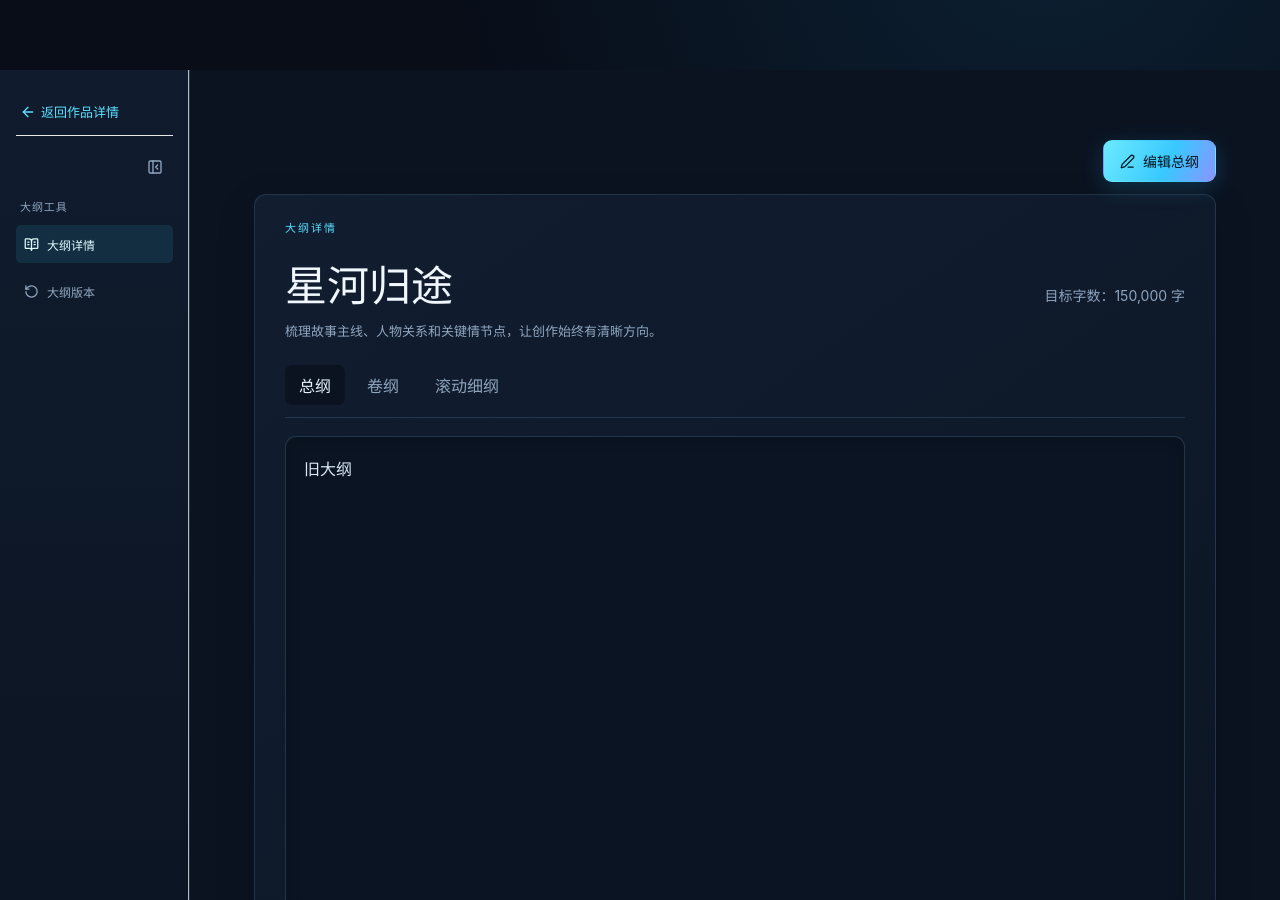
it: 大纲详情页 › 编辑目标字数，智能生成使用该字数并将流式结果写入大纲编辑框
Expected: the button "智能生成" is not shown
Click the button "编辑总纲" at (1160, 161), box top-left (1103, 140), bottom-right (1216, 182)
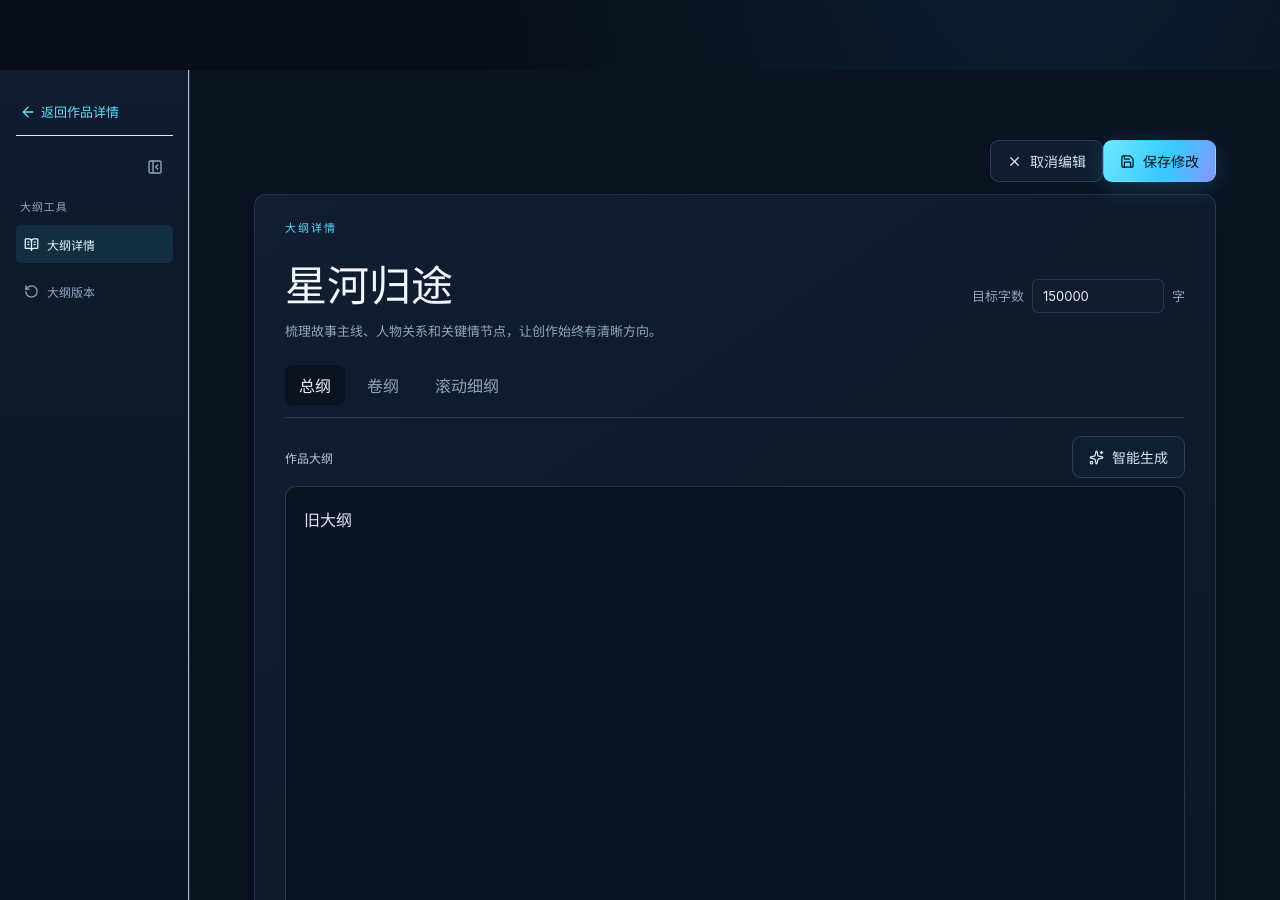
Result: the number field named "作品目标字数" holds "150000" at top-left (1032, 278), bottom-right (1164, 312)
Click the button "智能生成" at (1128, 457), box top-left (1072, 436), bottom-right (1185, 478)
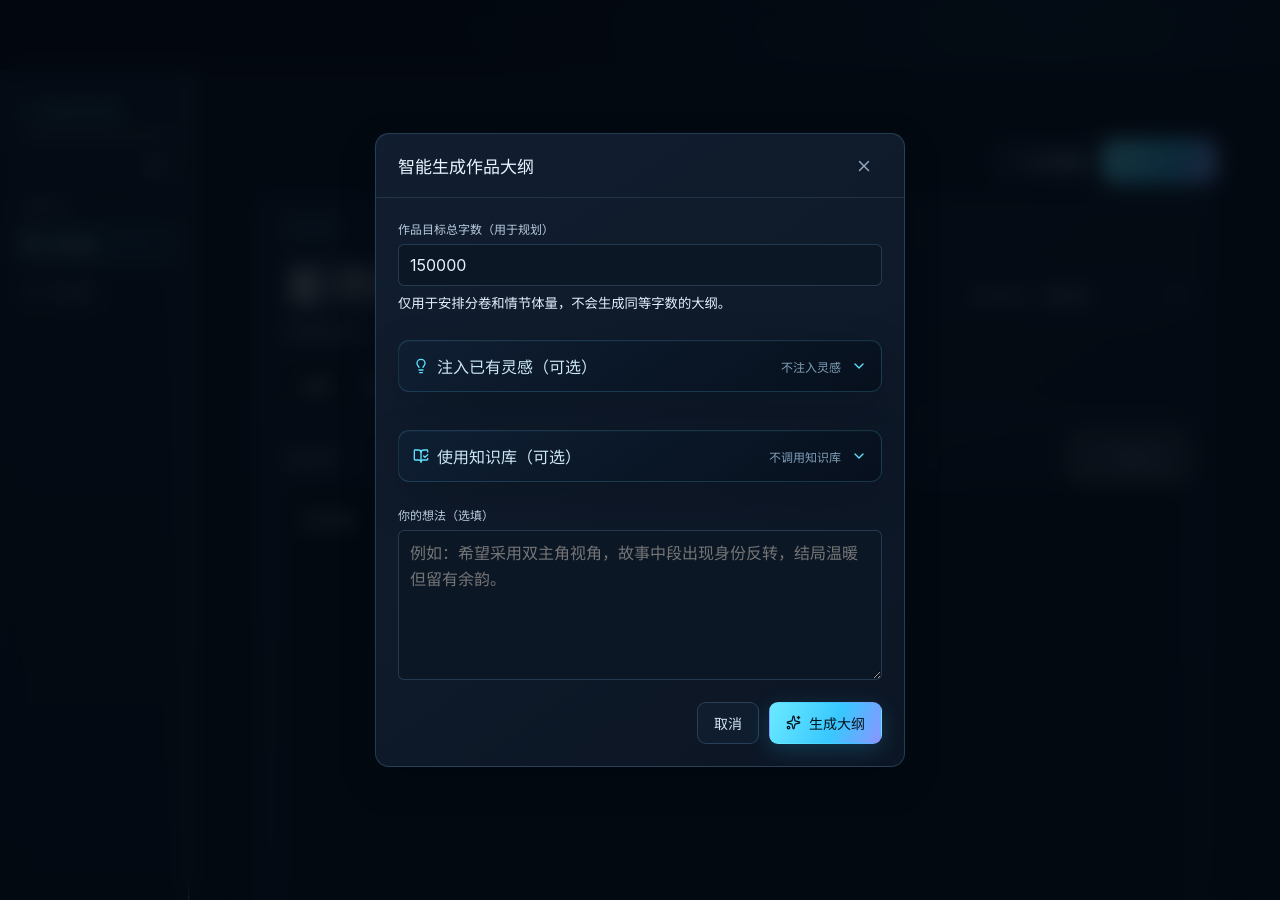
Result: the number field named "大纲生成期望字数" holds "150000" at top-left (398, 244), bottom-right (882, 286)
Type "双主角，温暖结局" into the text box named "大纲生成想法" at (640, 605), box top-left (398, 530), bottom-right (882, 680)
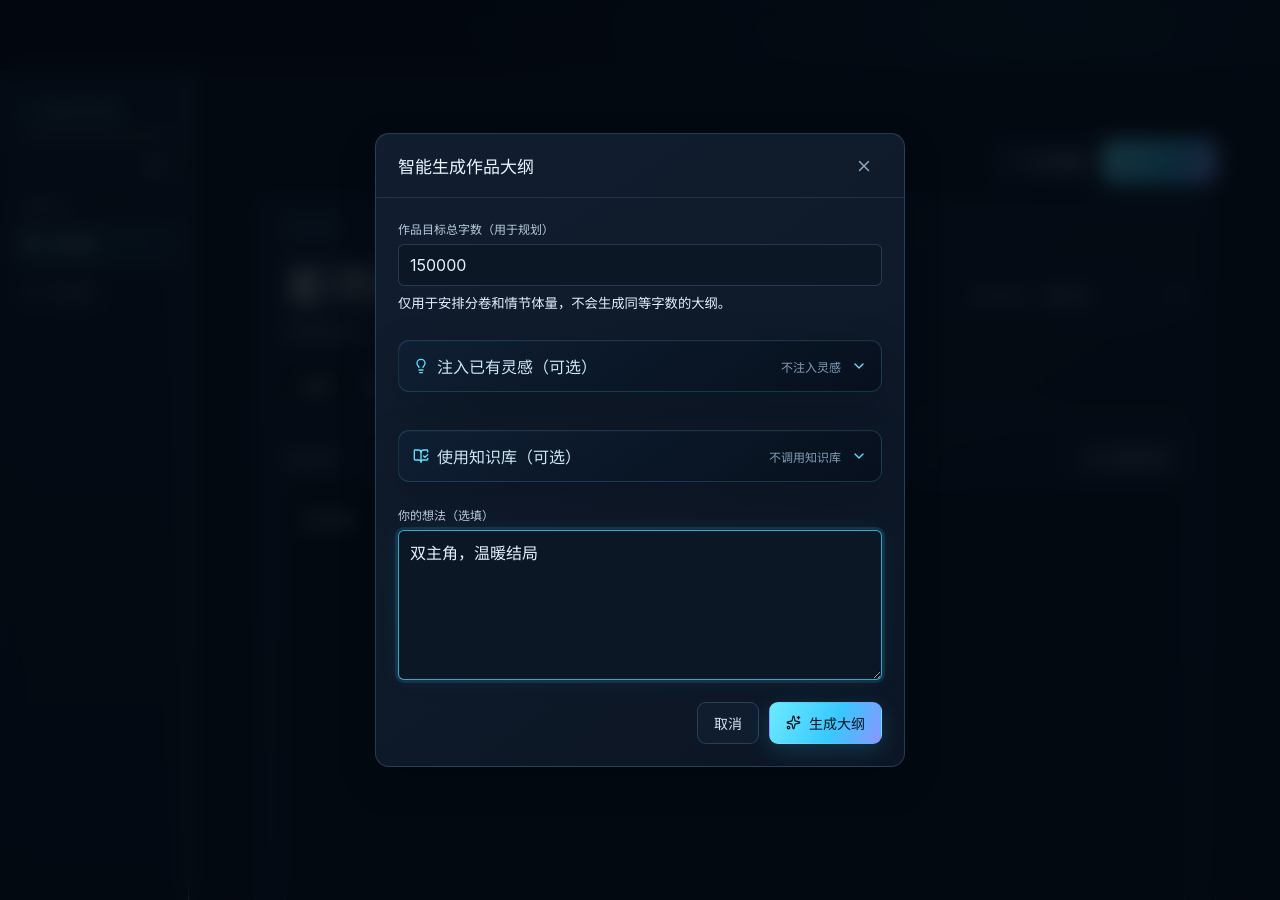
Click the button "生成大纲" at (826, 723), box top-left (769, 702), bottom-right (882, 744)
(page scrolled)
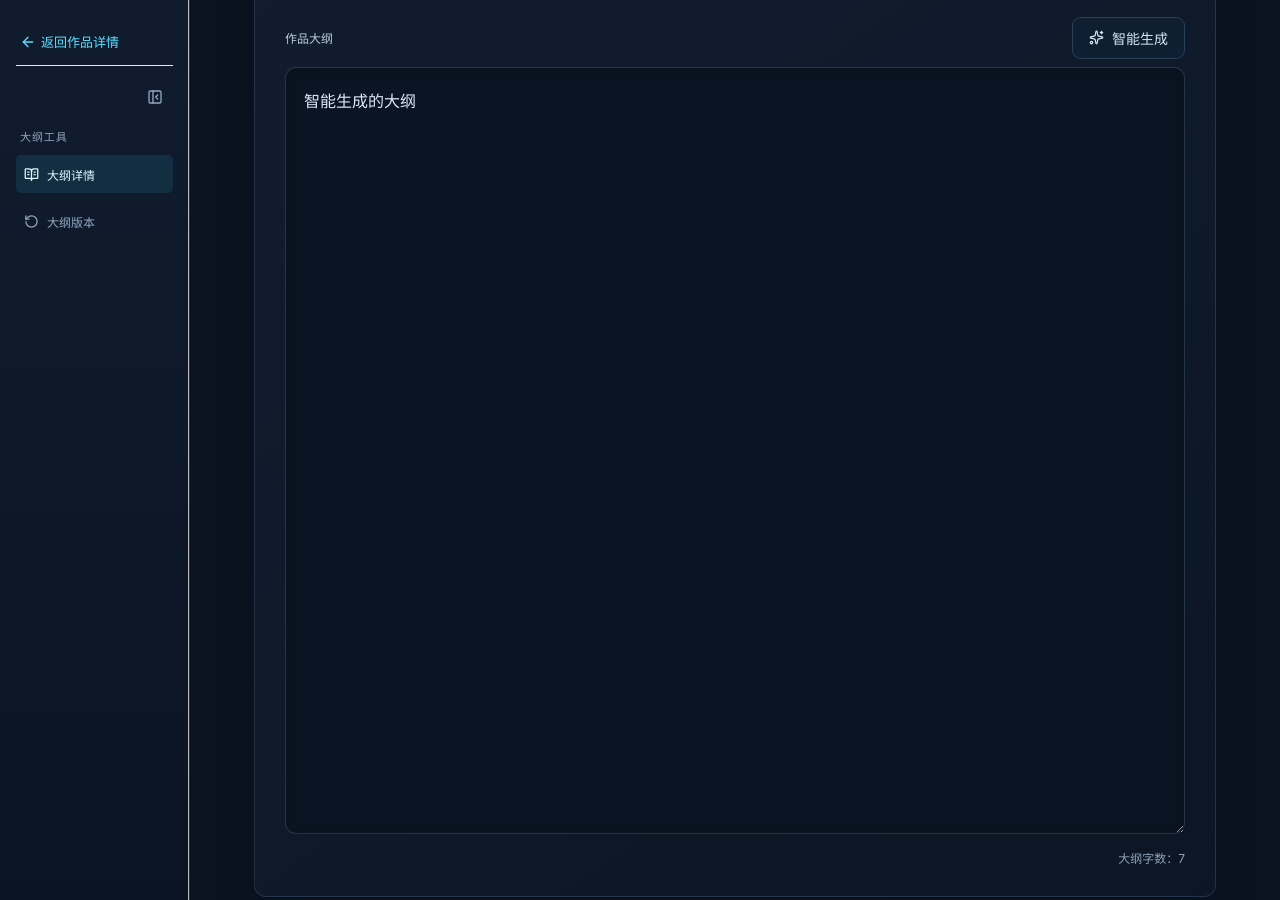
Result: the text box named "作品大纲" holds "智能生成的大纲" at top-left (285, 66), bottom-right (1185, 834)
